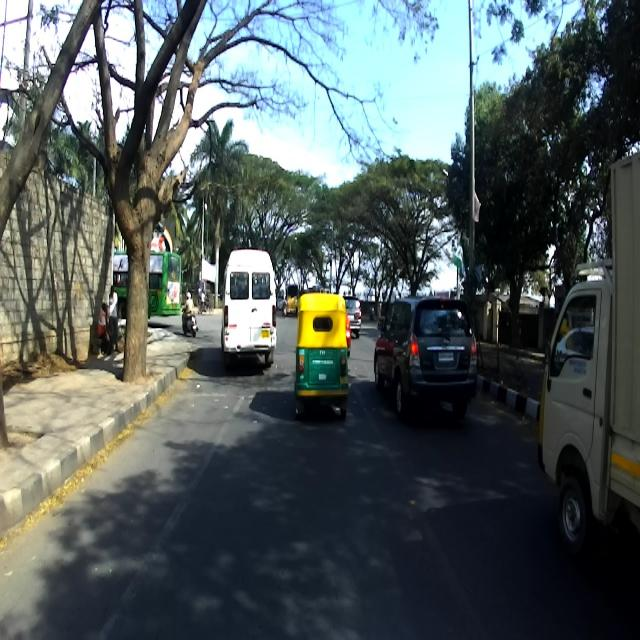Car_Toyota: (373, 294, 477, 422)
autorickshaw: (293, 292, 349, 422)
bus: (114, 243, 191, 316)
mini-bus: (221, 251, 281, 368)
